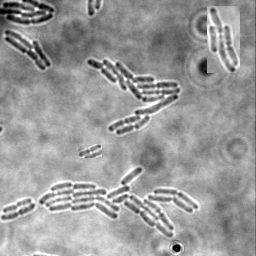Dividing: (1, 204, 37, 222), (3, 199, 33, 215), (78, 144, 102, 158)
Microcolony: (40, 167, 199, 238), (87, 59, 181, 136), (207, 6, 240, 73), (5, 30, 52, 72), (1, 1, 56, 26)
